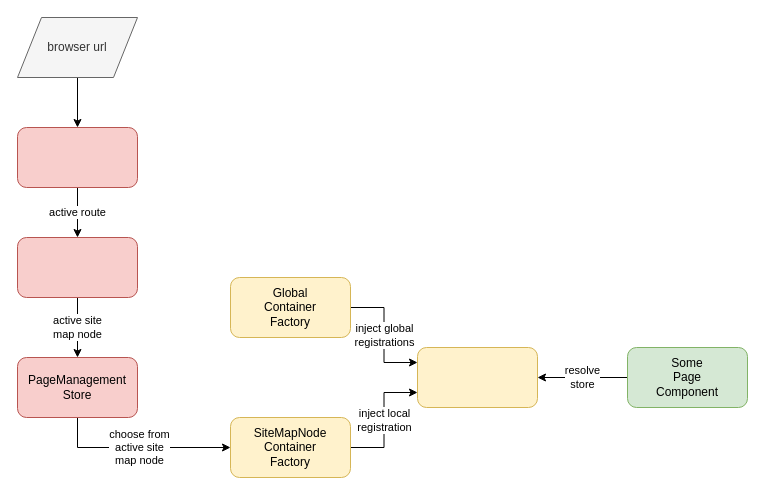
The diagram is 765 pixels wide and 495 high, and some of its shapes have lost their labels. The centre of each missing label's shape, as x and y in pixels:
Page Container Instance: the point at 477,377
RouterStore: the point at 77,157
SiteMapStore: the point at 77,267
